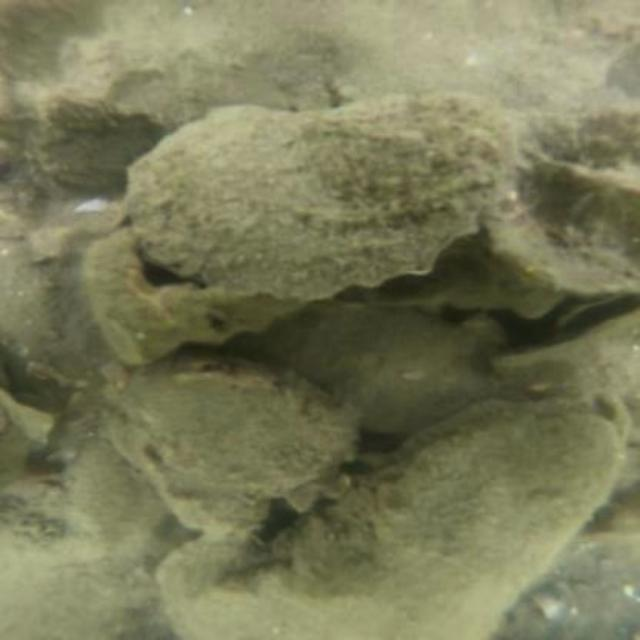Oyster-Closed: (288, 383, 638, 623), (125, 97, 523, 298), (108, 370, 356, 528), (252, 308, 497, 433)
